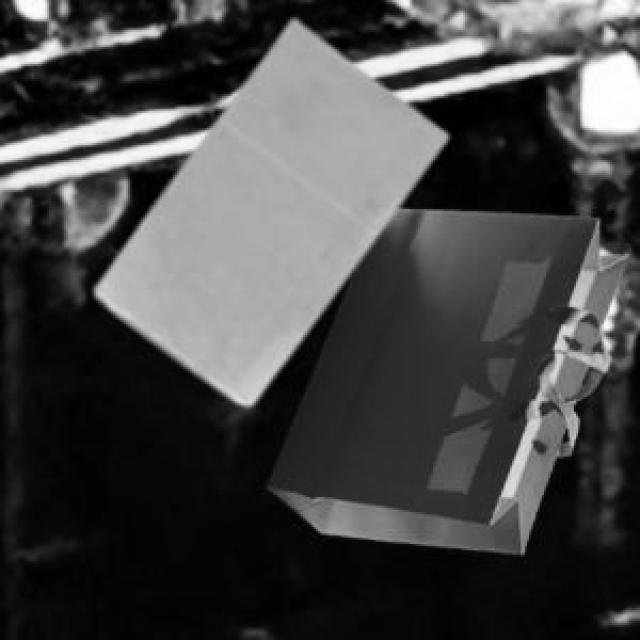paper: (92, 17, 442, 401), (262, 205, 623, 550)
